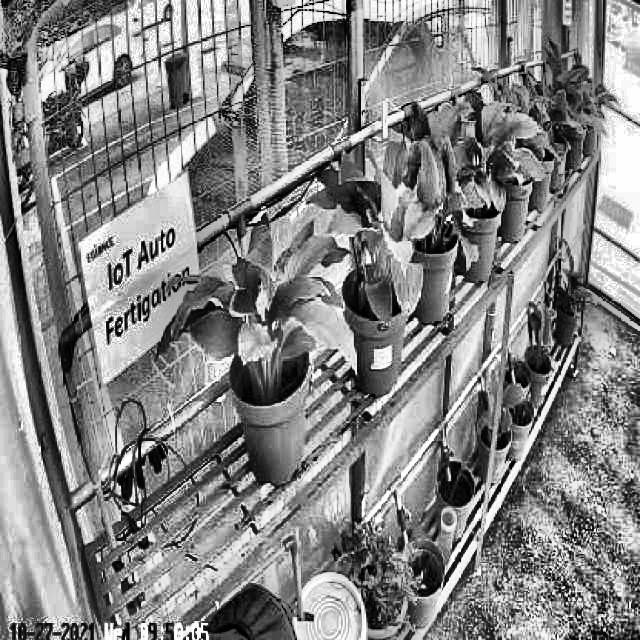plants: (156, 208, 355, 392), (318, 156, 424, 332), (386, 95, 480, 272), (432, 86, 548, 211)
